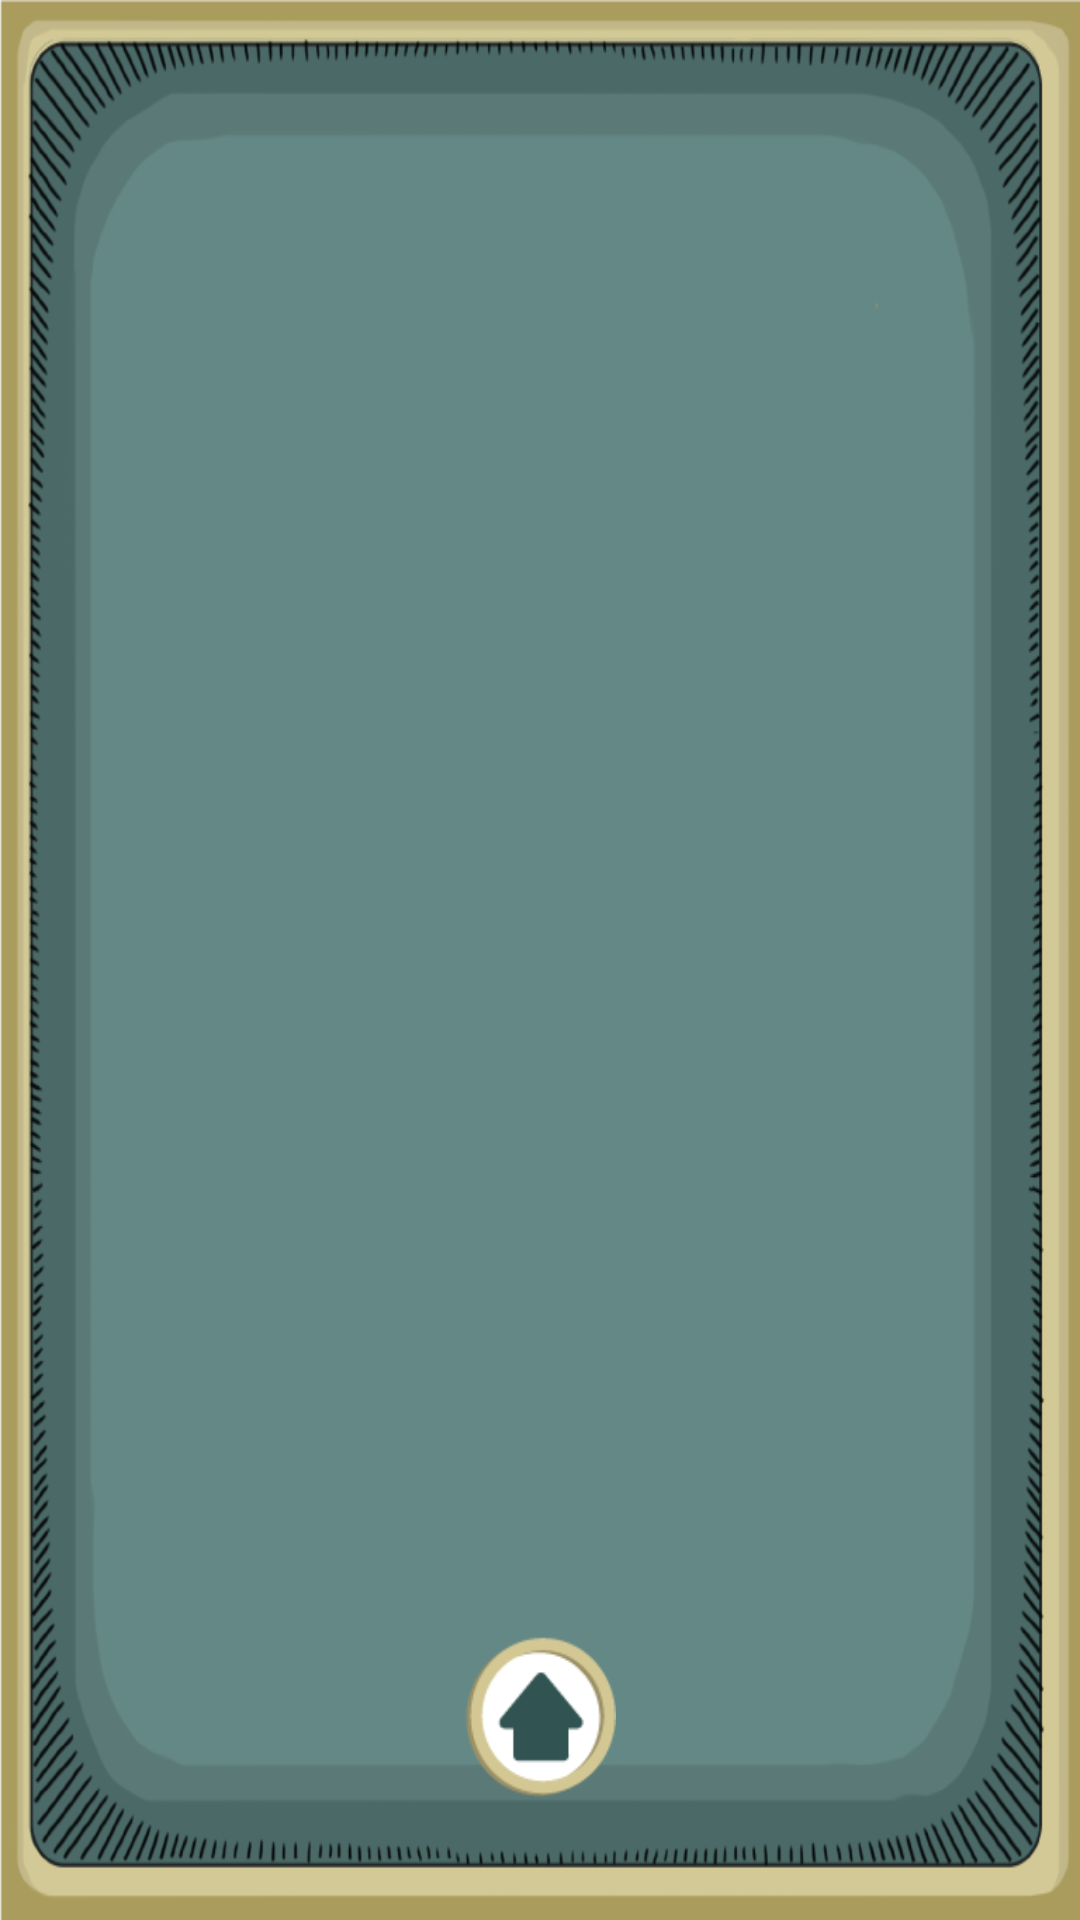

Where icons sit on this 1080×1920 app screen, as box(x1, y1, x2, y2):
botonhome: box(467, 1637, 616, 1795)
